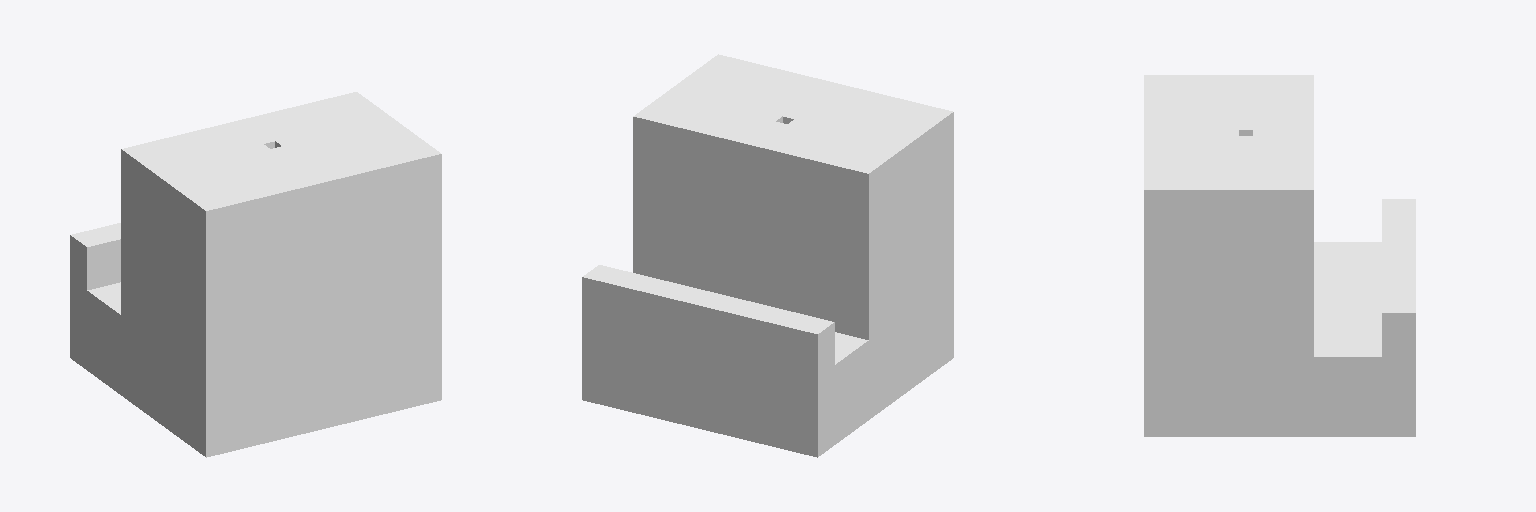
The model's file is Enemy3_4.obj.
3 views of the same model, side by side, from view 1: azimuth 30°, elevation 25°; view 2: azimuth 150°, elevation 25°; view 3: azimuth 270°, elevation 25° (orthographic).
Parts seen in each view (by area): view 1: Enemy3_4; view 2: Enemy3_4; view 3: Enemy3_4.
Boxes of the visible parts, x1,y1,x2,y2 form: Enemy3_4: [70, 92, 441, 457]; Enemy3_4: [582, 54, 953, 457]; Enemy3_4: [1144, 75, 1415, 436].
Bounding box in the file's own units: 40 × 40 × 40.